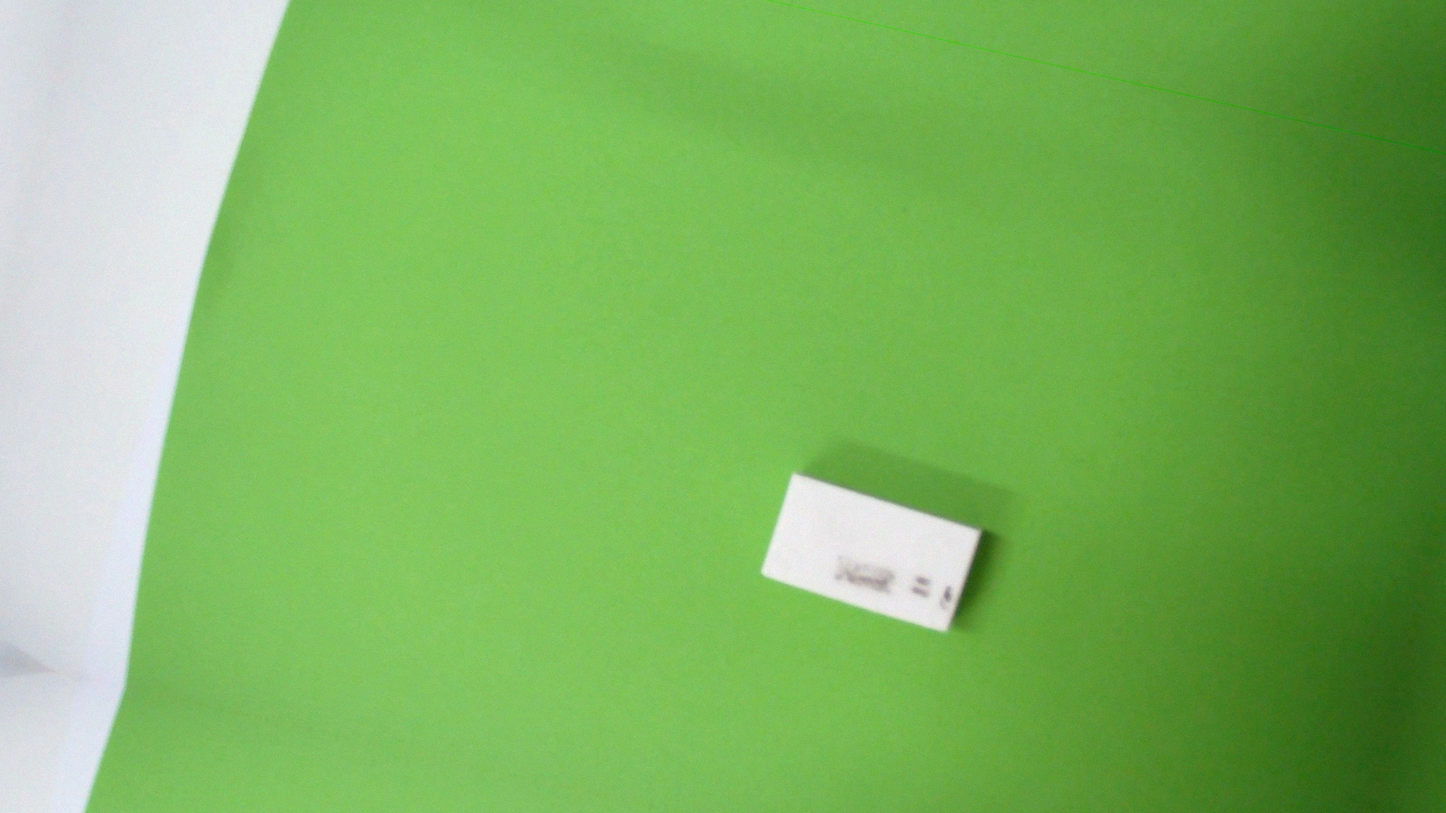gom: (753, 460, 990, 648)
